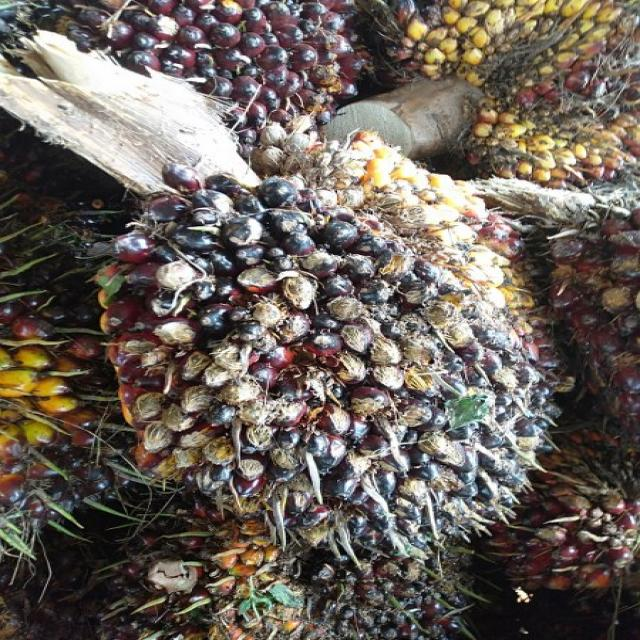fraksi 00: (95, 182, 570, 560)
